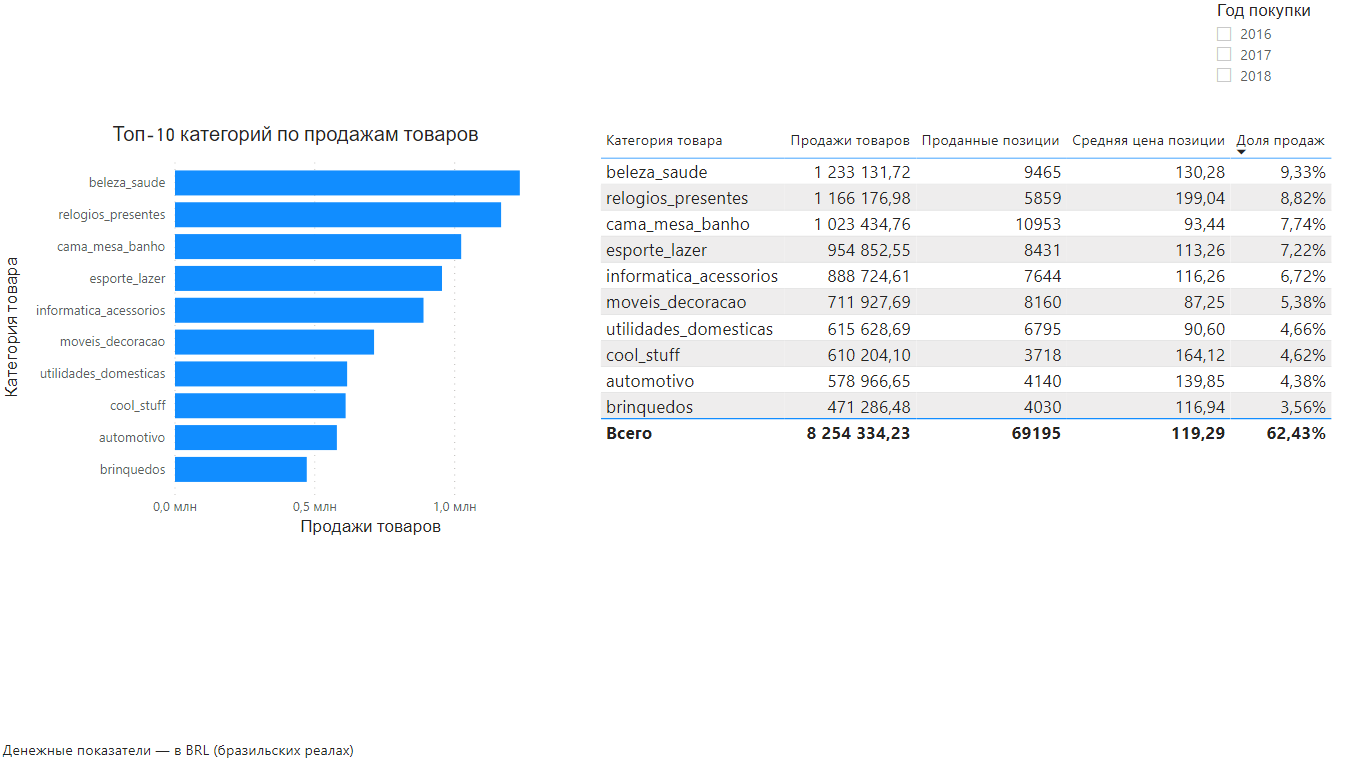

Layout of this report page (visuals, bound fields, positions):
{"tool":"powerbi","page":{"name":"Категории товаров","canvas":[1280,720],"ordinal":1},"visuals":[{"type":"clusteredBarChart","title":"Топ-10 категорий по продажам товаров","fields":{"Category":["OrderItems.product_category_name"],"Y":["OrderItems.Delivered Sales"]},"box":[0,117.8,550.8,385.4],"z":0},{"type":"tableEx","fields":{"Values":["OrderItems.product_category_name","OrderItems.Delivered Sales","OrderItems.Delivered Items","OrderItems.Avg Item Price","OrderItems.Category Sales Share"]},"box":[550.8,117.8,729.2,385.4],"z":1000},{"type":"slicer","fields":{"Values":["Calendar.Year"]},"box":[1111.8,0,167.8,114.3],"z":2000},{"type":"textbox","box":[0,681.3,352.2,38.7],"z":2001}]}

Visuals, with their boxes in screenshot pixels (x1, y1, x2, y2), scaled from the page's 1280x720 canvas onto the 1363x775 screenshot:
"Топ-10 категорий по продажам товаров" clusteredBarChart: bbox=[0, 127, 587, 542]
tableEx - OrderItems.product_category_name x OrderItems.Delivered Sales: bbox=[587, 127, 1362, 542]
slicer - Calendar.Year: bbox=[1184, 0, 1362, 123]
textbox: bbox=[0, 733, 375, 774]
